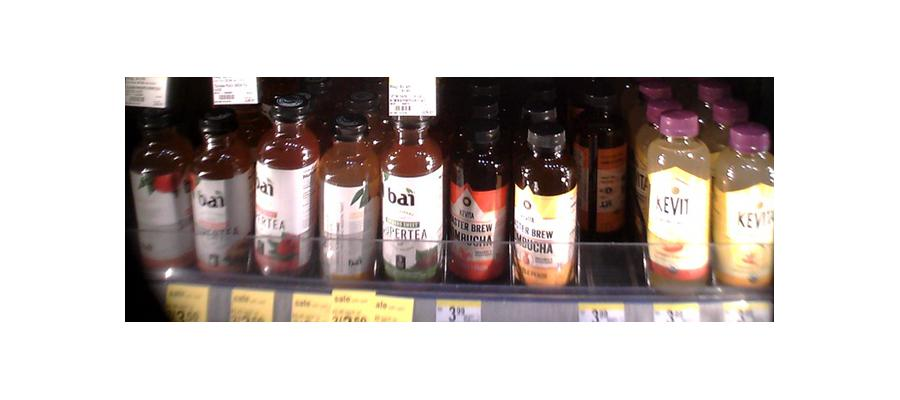bottle: (643, 109, 714, 296), (379, 107, 446, 291), (252, 95, 316, 282), (128, 104, 191, 283), (516, 109, 578, 290), (448, 100, 509, 282), (717, 121, 778, 295), (316, 113, 376, 283), (192, 108, 251, 279), (579, 84, 629, 243)
